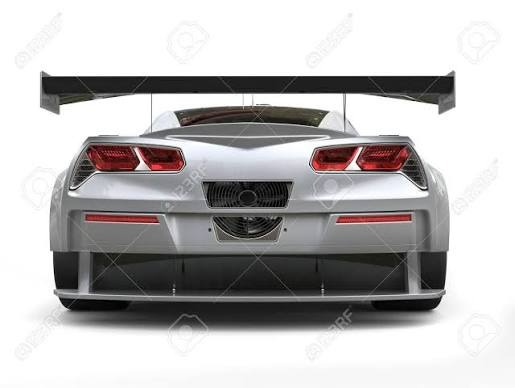car: (16, 63, 488, 336)
